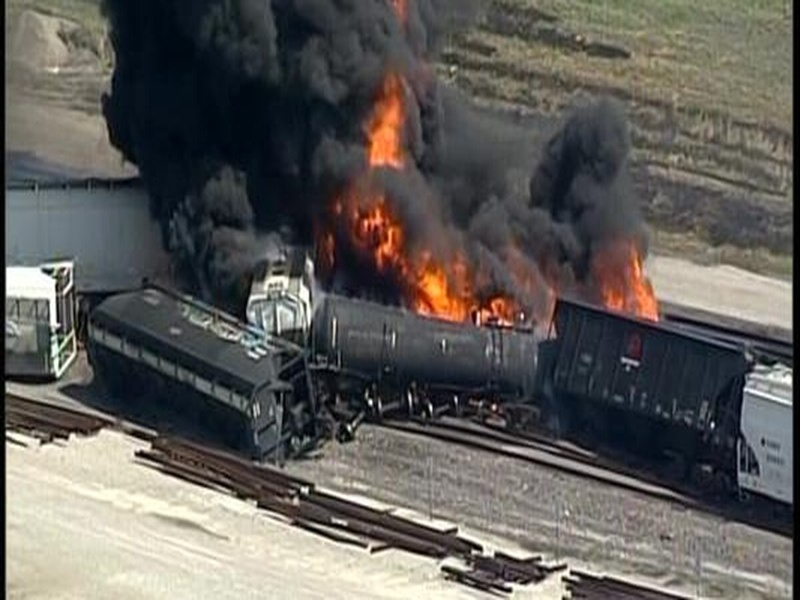smoke: (101, 4, 624, 267)
